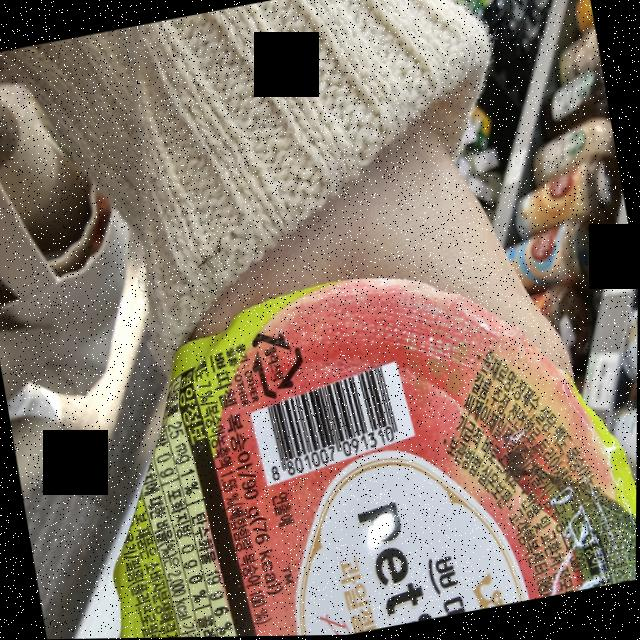Plastic: (246, 324, 311, 402)
